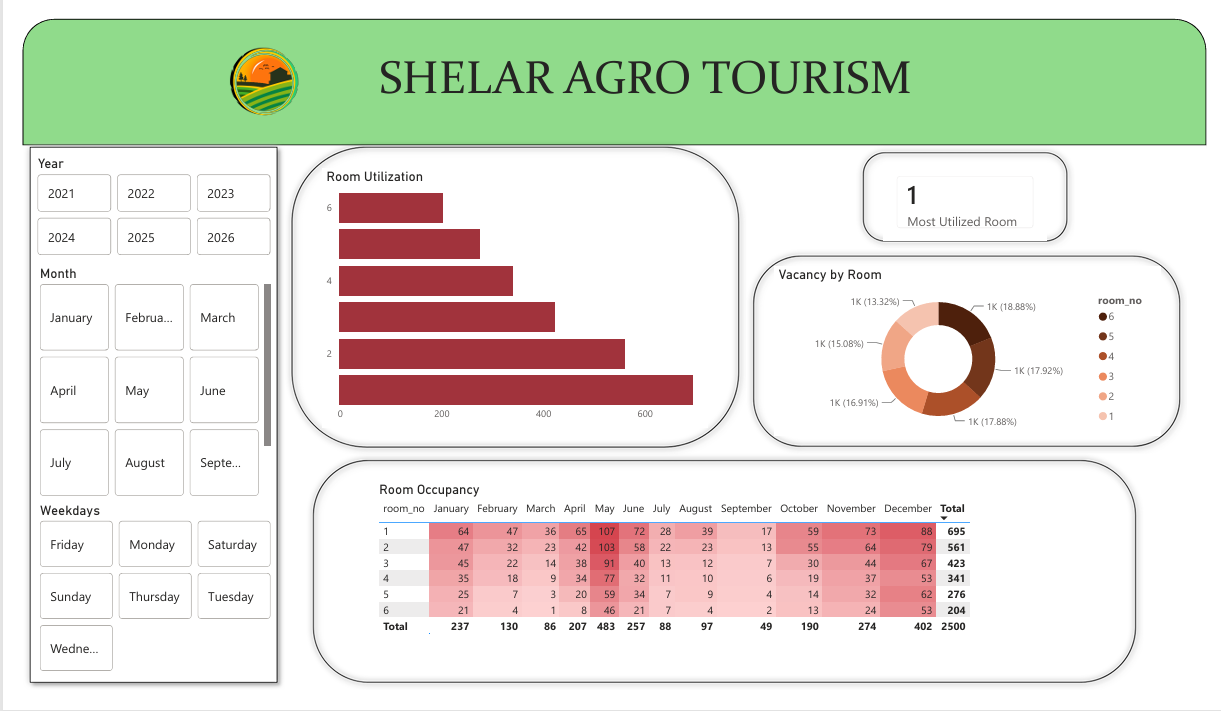

What the dashboard file says about the page in this screenshot:
{"tool":"powerbi","page":{"name":"Room Performance","canvas":[1500,850],"ordinal":1},"visuals":[{"type":"shape","box":[0,0,1499.9,160.2],"z":0},{"type":"textbox","box":[332,33.2,913.8,93.8],"z":1000},{"type":"image","box":[216.5,7.2,174.7,145.8],"z":2000},{"type":"shape","box":[0,153,332,697.3],"z":3000},{"type":"shape","box":[1055.7,160,277.1,131.4],"z":4000},{"type":"shape","box":[359.1,550,1060.6,300],"z":5000},{"type":"shape","box":[331.8,153,584.8,398.5],"z":6000},{"type":"shape","box":[917.1,291.4,558.6,260],"z":7000},{"type":"cardVisual","fields":{"Data":["hotelbookings booking.Most Utilized Room"]},"box":[1090.9,181.8,207.6,100],"z":8000},{"type":"barChart","title":"Room Utilization","fields":{"Category":["hotelbookings booking.room_no"],"Y":["hotelbookings booking.Occupied Rooms"]},"box":[380.3,189.4,487.9,328.8],"z":9000},{"type":"donutChart","title":"Vacancy by Room","fields":{"Category":["hotelbookings booking.room_no"],"Y":["hotelbookings booking.Vacant Rooms"]},"box":[952.9,314.3,490,214.3],"z":10000},{"type":"pivotTable","title":"Room Occupancy","fields":{"Values":["hotelbookings booking.Occupied Rooms"],"Columns":["hotelbookings booking.month"],"Rows":["hotelbookings booking.room_no"]},"box":[447,586.4,931.8,225.8],"z":11000},{"type":"advancedSlicerVisual","fields":{"Values":["hotelbookings booking.year"]},"box":[14.4,173.2,304.6,131.4],"z":12000},{"type":"advancedSlicerVisual","fields":{"Values":["hotelbookings booking.month"]},"box":[17.3,311.8,301.7,300.3],"z":13000},{"type":"advancedSlicerVisual","fields":{"Values":["hotelbookings booking.weekday"]},"box":[17.3,612.1,301.7,222.3],"z":14000}]}

Visuals, with their boxes in screenshot pixels (x1, y1, x2, y2), scaled from the page's 1500x850 canvas onto the 1221x711 screenshot:
shape: <box>0,0,1220,134</box>
textbox: <box>270,28,1014,106</box>
image: <box>176,6,318,128</box>
shape: <box>0,128,270,710</box>
shape: <box>859,134,1085,244</box>
shape: <box>292,460,1156,710</box>
shape: <box>270,128,746,461</box>
shape: <box>747,244,1201,461</box>
cardVisual - hotelbookings booking.Most Utilized Room: <box>888,152,1057,236</box>
"Room Utilization" barChart: <box>310,158,707,433</box>
"Vacancy by Room" donutChart: <box>776,263,1175,442</box>
"Room Occupancy" pivotTable: <box>364,491,1122,679</box>
advancedSlicerVisual - hotelbookings booking.year: <box>12,145,260,255</box>
advancedSlicerVisual - hotelbookings booking.month: <box>14,261,260,512</box>
advancedSlicerVisual - hotelbookings booking.weekday: <box>14,512,260,698</box>
